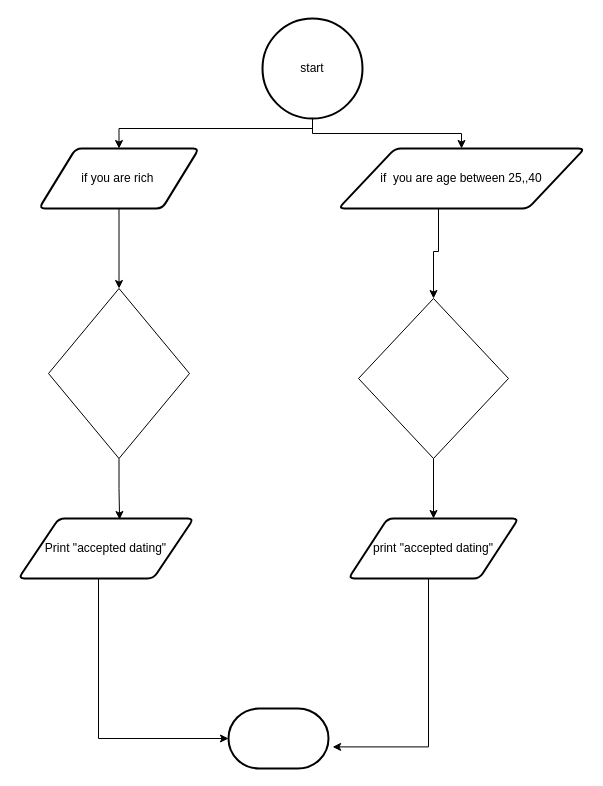
Some shapes in this 603 by 786 pixel diagram are drawn without their labels. The shapes that lost their labels are listed below. From the top down, each one's box as (x1, y1, x2, y2) in pixels, then its label:
(48, 288, 190, 458): Grandmother #2
(358, 298, 508, 458): Grand mother #1
(227, 707, 329, 769): stop
